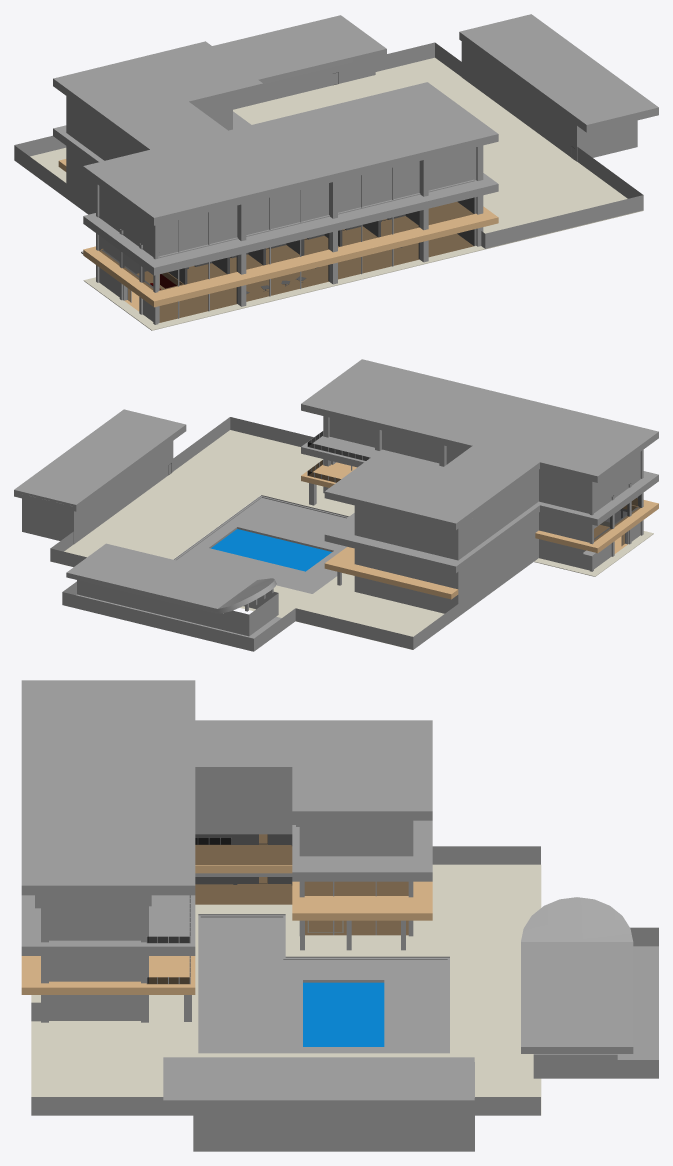
File: IslandResort_MainLivingQuaters.fbx
3 renders of one model, top to bottom at view 1: azimuth 30°, elevation 25°; view 2: azimuth 150°, elevation 25°; view 3: azimuth 270°, elevation 25°, orthographic. The views are drawn at different scales.
Parts seen in each view (by area): view 1: pPlane11, polySurface20, polySurface8, pCube115, pCube67, pPlane2, pPlane9, pCylinder6, pCube116, pCube301, polySurface22, pCube300 (+8 smaller); view 2: pPlane11, polySurface20, polySurface8, pCube115, pCylinder6, polySurface19, pPlane9, pCube300, pCube116, pCube67, polySurface22, pPlane5 (+4 smaller); view 3: pPlane11, polySurface20, polySurface19, polySurface8, pCylinder6, pCube115, pCube67, pCube116, pPlane9, pPlane7, pPlane5, pCube300 (+7 smaller).
Boxes of the visible parts, <box> form: pPlane11: <box>53,41,498,225</box>; polySurface20: <box>30,57,643,330</box>; polySurface8: <box>66,96,476,321</box>; pCube115: <box>459,14,658,132</box>; pCube67: <box>58,159,498,307</box>; pPlane2: <box>160,197,474,322</box>; pPlane9: <box>53,111,498,275</box>; pCylinder6: <box>212,15,386,83</box>; pCube116: <box>461,41,637,161</box>; pCube301: <box>481,147,643,248</box>; polySurface22: <box>233,57,375,109</box>; pCube300: <box>14,135,66,197</box>; pPlane11: <box>301,359,658,529</box>; polySurface20: <box>51,430,653,649</box>; polySurface8: <box>329,417,640,616</box>; pCube115: <box>14,409,186,511</box>; pCylinder6: <box>66,543,276,613</box>; polySurface19: <box>173,495,348,593</box>; pPlane9: <box>301,431,658,572</box>; pCube300: <box>62,581,458,651</box>; pCube116: <box>22,441,173,544</box>; pCube67: <box>301,460,658,599</box>; polySurface22: <box>77,580,278,636</box>; pPlane5: <box>211,529,331,571</box>; pPlane11: <box>21,680,432,895</box>; polySurface20: <box>31,864,541,1115</box>; polySurface19: <box>198,914,449,1053</box>; polySurface8: <box>49,776,413,1020</box>; pCylinder6: <box>521,897,633,1053</box>; pCube115: <box>163,1057,474,1109</box>; pCube67: <box>21,834,432,994</box>; pCube116: <box>193,1062,474,1151</box>; pPlane9: <box>21,820,432,955</box>; pPlane7: <box>195,834,291,904</box>; pPlane5: <box>303,982,384,1046</box>; pCube300: <box>432,846,658,1078</box>.
Bounding box in the file's own units: 12744 × 2969 × 10356.
